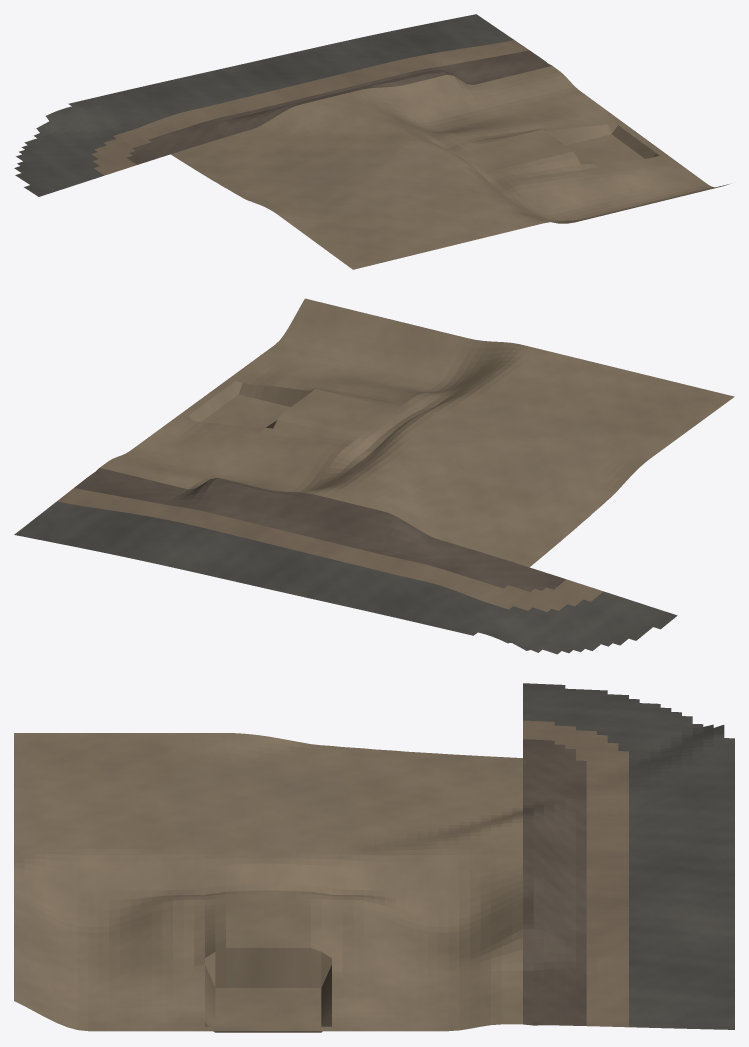
Rendered from RECEPTION-EARTHWORK-V26.glb.
3 renders of one model, top to bottom at view 1: azimuth 30°, elevation 25°; view 2: azimuth 150°, elevation 25°; view 3: azimuth 270°, elevation 25°, orthographic. The views are drawn at different scales.
Parts seen in each view (by area): view 1: RECEPTION-EARTHWORK-V26_CREST, RECEPTION-EARTHWORK-V26_TOE_SLOPE, RECEPTION-EARTHWORK-V26_BERM, RECEPTION-EARTHWORK-V26_UPPER_SLOPE, ROM-DUMP-APRON-WEAR, ROM-HOPPER-FINES-STAIN; view 2: RECEPTION-EARTHWORK-V26_CREST, RECEPTION-EARTHWORK-V26_TOE_SLOPE, RECEPTION-EARTHWORK-V26_UPPER_SLOPE, RECEPTION-EARTHWORK-V26_BERM, ROM-DUMP-APRON-WEAR, ROM-HOPPER-FINES-STAIN; view 3: RECEPTION-EARTHWORK-V26_CREST, RECEPTION-EARTHWORK-V26_TOE_SLOPE, RECEPTION-EARTHWORK-V26_UPPER_SLOPE, RECEPTION-EARTHWORK-V26_BERM, ROM-DUMP-APRON-WEAR, ROM-HOPPER-FINES-STAIN, ROM-TIRE-RIBBON-OUTER.
Boxes of the visible parts, x1,y1,x2,y2 form: RECEPTION-EARTHWORK-V26_CREST: (171,66,729,269); RECEPTION-EARTHWORK-V26_TOE_SLOPE: (14,14,513,196); RECEPTION-EARTHWORK-V26_BERM: (91,40,528,175); RECEPTION-EARTHWORK-V26_UPPER_SLOPE: (126,50,551,164); ROM-DUMP-APRON-WEAR: (284,148,458,212); ROM-HOPPER-FINES-STAIN: (389,151,446,169); RECEPTION-EARTHWORK-V26_CREST: (100,298,734,567); RECEPTION-EARTHWORK-V26_TOE_SLOPE: (14,501,677,654); RECEPTION-EARTHWORK-V26_UPPER_SLOPE: (74,468,565,591); RECEPTION-EARTHWORK-V26_BERM: (57,488,603,611); ROM-DUMP-APRON-WEAR: (411,404,620,483); ROM-HOPPER-FINES-STAIN: (416,420,478,442); RECEPTION-EARTHWORK-V26_CREST: (14,733,522,1032); RECEPTION-EARTHWORK-V26_TOE_SLOPE: (523,683,734,1029); RECEPTION-EARTHWORK-V26_UPPER_SLOPE: (523,739,586,1025); RECEPTION-EARTHWORK-V26_BERM: (523,720,628,1027); ROM-DUMP-APRON-WEAR: (157,752,355,860); ROM-HOPPER-FINES-STAIN: (251,823,309,861); ROM-TIRE-RIBBON-OUTER: (203,771,397,825).
Bounding box in the file's own units: 78 × 5.12 × 68.
8 materials, 4 textured.
